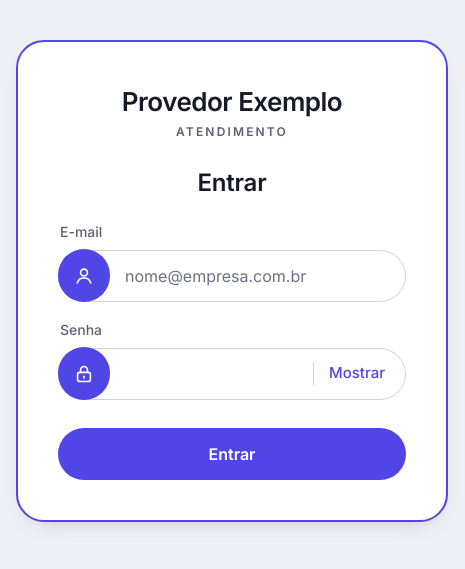
Test: LoginPage: validação própria, ao lado do campo › corrigir o campo tira o aviso dele
Step 1. Click the button "Entrar" → (232, 454), box [58,428,406,480]
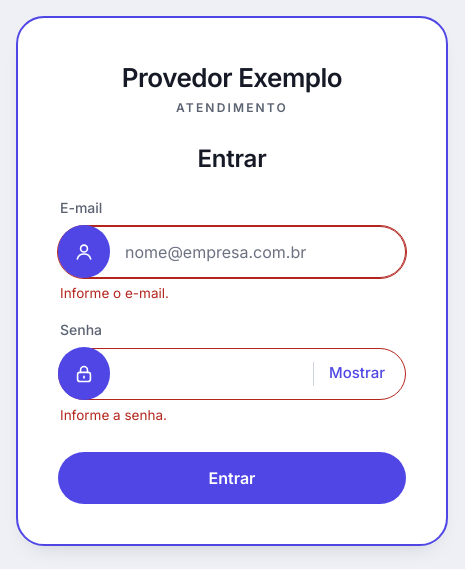
Expected: the field labelled "E-mail" is marked as invalid
Step 2. Type "a" into the field labelled "E-mail" → (265, 252), box [125,227,405,277]
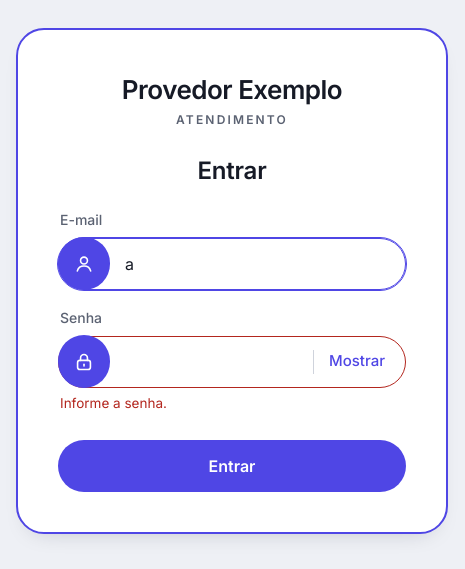
Expected: the text "Informe o e-mail." is gone
